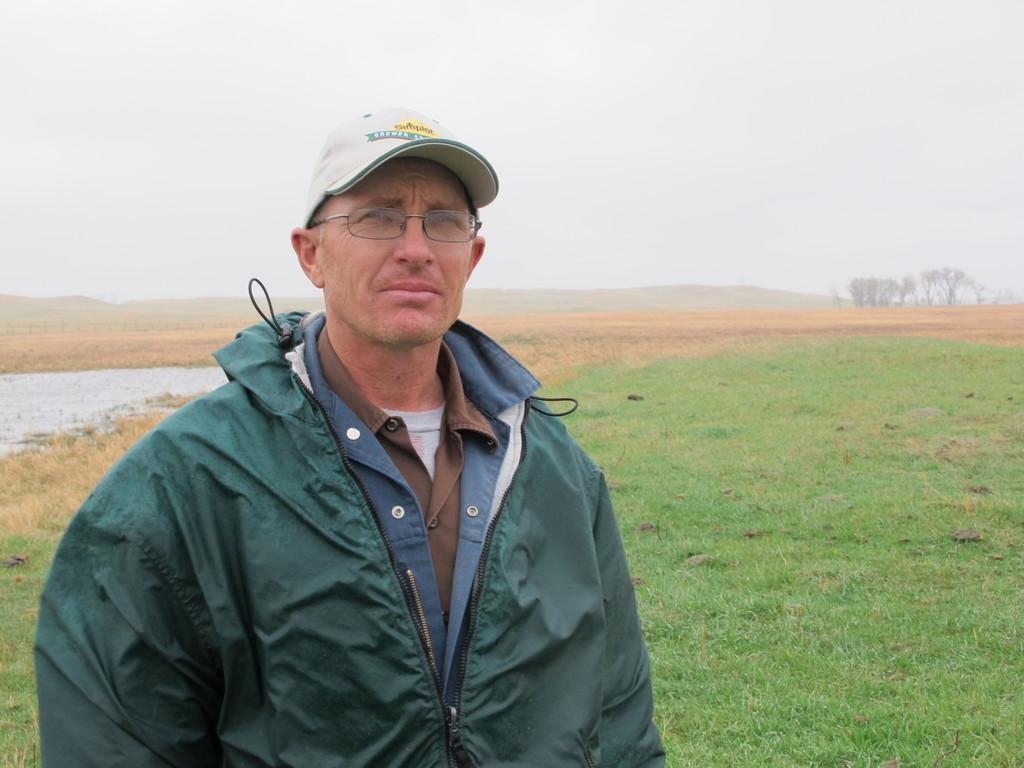Hat: (300, 112, 498, 228)
